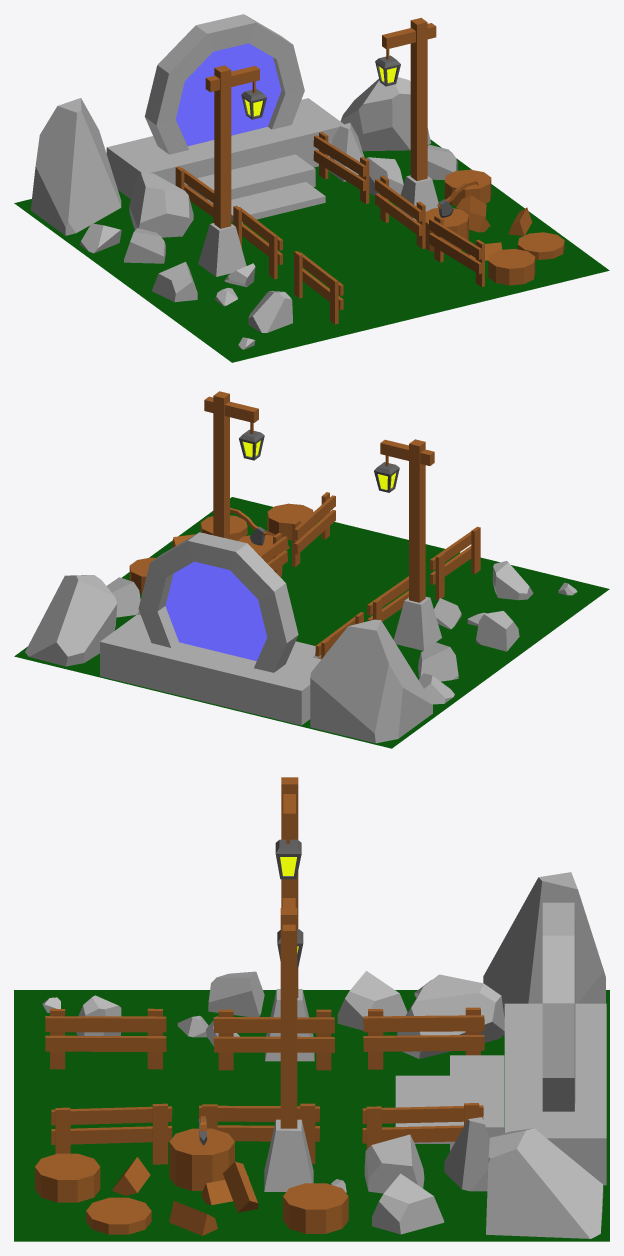
File: portal.glb
3 views of the same model, one above another, from view 1: azimuth 30°, elevation 25°; view 2: azimuth 150°, elevation 25°; view 3: azimuth 270°, elevation 25° (orthographic). The views are drawn at different scales.
Parts seen in each view (by area): view 1: Plane, stone_01, GEO-step_1, Circle, stone_09, post_l, post_r, stone_02, GEO-step_2, GEO-step_3, fence_r_3, fence_r_1 (+26 smaller); view 2: Plane, GEO-step_1, stone_01, Circle, stone_09, post_l, post_r, foot_l, fence_l_1, GEO-brik_3, GEO-brik_2, fence_r_1 (+17 smaller); view 3: Plane, GEO-step_1, stone_09, stone_01, fence_l_1, fence_l_3, fence_r_1, fence_l_2, post_r, stone_02, fence_r_3, GEO-step_2 (+23 smaller).
Boxes of the visible parts, x1,y1,x2,y2 form: Plane: (14,139,609,362); stone_01: (30,98,121,235); GEO-step_1: (106,98,344,199); Circle: (175,43,281,146); stone_09: (340,77,430,151); post_l: (205,65,259,228); post_r: (382,17,436,180); stone_02: (129,173,193,237); GEO-step_2: (187,154,315,203); GEO-step_3: (231,182,325,222); fence_r_3: (313,132,369,203); fence_r_1: (429,215,484,286); Plane: (14,497,609,748); GEO-step_1: (100,614,321,725); stone_01: (310,619,432,743); Circle: (165,561,267,661); stone_09: (25,575,117,666); post_l: (380,439,434,602); post_r: (204,391,258,539); foot_l: (393,597,441,650); fence_l_1: (429,526,480,600); GEO-brik_3: (230,543,285,599); GEO-brik_2: (258,583,298,643); fence_r_1: (292,492,335,566); Plane: (14,990,609,1241); GEO-step_1: (504,1003,606,1185); stone_09: (486,1128,603,1238); stone_01: (483,872,605,1017); fence_l_1: (45,1008,166,1069); fence_l_3: (363,1007,484,1069); fence_r_1: (51,1103,172,1164); fence_l_2: (213,1009,334,1070); post_r: (280,898,297,1128); stone_02: (397,974,504,1058); fence_r_3: (362,1103,483,1149); GEO-step_2: (450,1055,504,1150).
Bounding box in the file's own units: 4 × 2.03 × 4.
